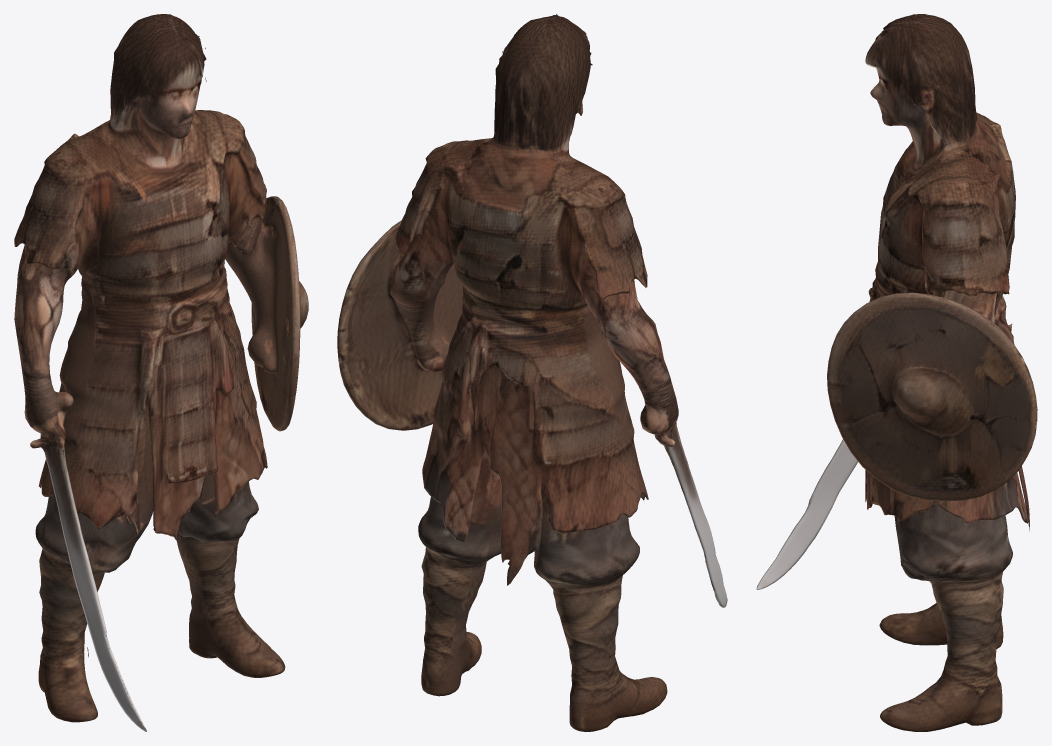
The model's file is mob-deserter-rodin.glb.
The picture shows the model from 3 angles, left to right: view 1: azimuth 30°, elevation 25°; view 2: azimuth 150°, elevation 25°; view 3: azimuth 270°, elevation 25°; orthographic projection.
Parts seen in each view (by area): view 1: model; view 2: model; view 3: model.
Part boxes in pixels (x1,y1,x2,y2): model: (14,14,308,731); model: (337,14,727,731); model: (756,14,1037,731).
Bounding box in the file's own units: 0.8429 × 1.9 × 0.7279.
Materials: 1 (1 with a texture image).
